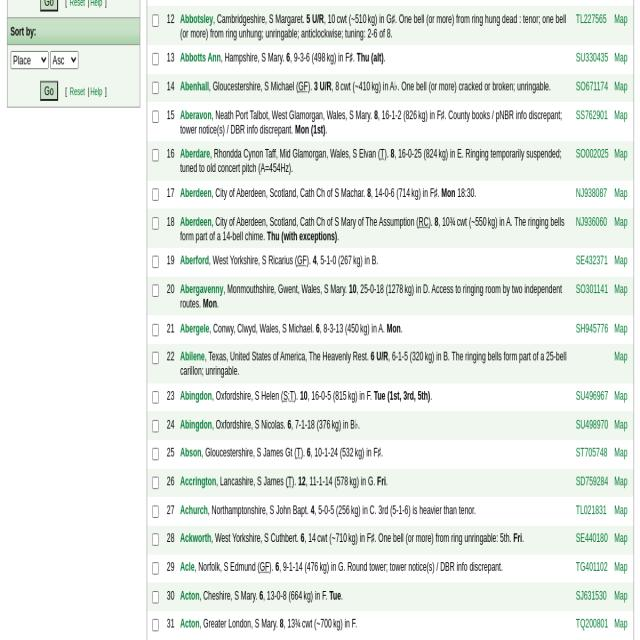button: (40, 81, 58, 101)
field: (10, 51, 48, 69), (49, 51, 78, 69), (152, 149, 158, 162), (152, 188, 158, 201), (152, 14, 158, 27), (152, 217, 158, 230), (152, 256, 158, 269), (152, 284, 158, 297), (152, 323, 158, 336), (152, 352, 158, 365), (152, 391, 158, 404), (152, 419, 158, 432), (152, 448, 158, 461), (152, 562, 158, 575), (152, 53, 158, 66), (152, 619, 158, 632), (152, 111, 158, 123), (152, 477, 158, 489), (152, 505, 158, 517), (152, 534, 158, 546), (152, 591, 158, 603), (152, 82, 158, 94)
